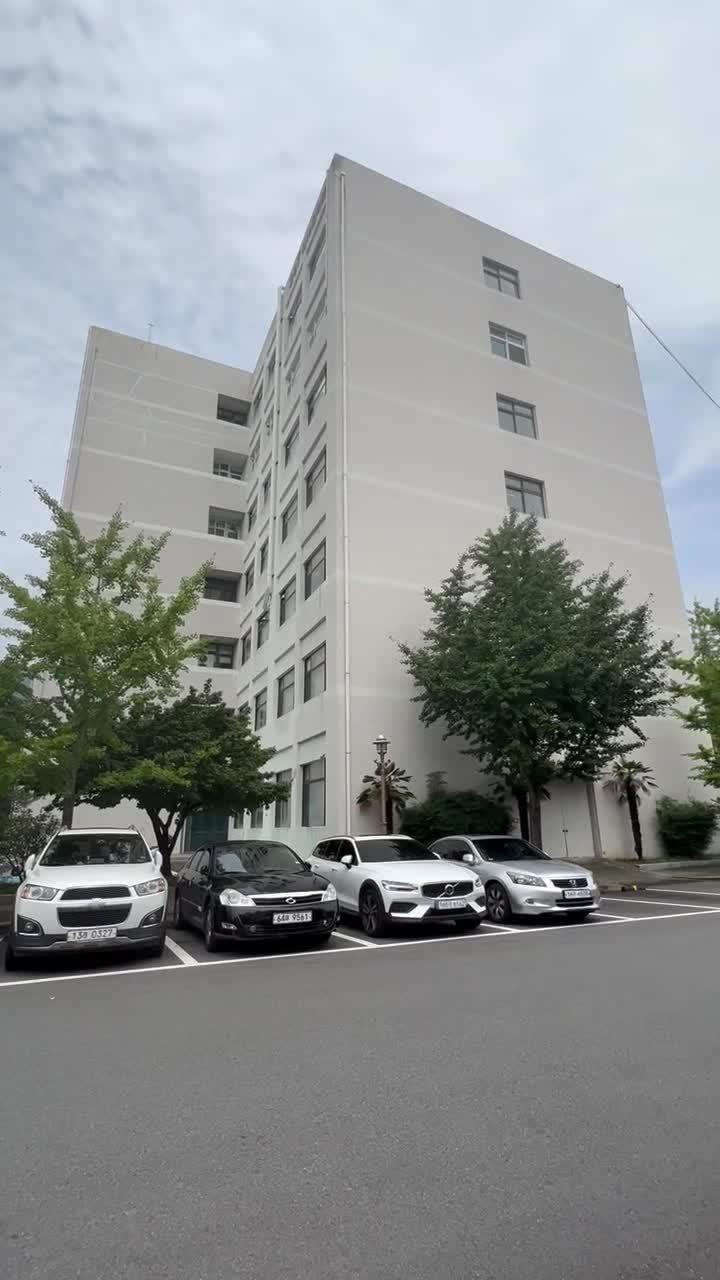building: (52, 168, 650, 534)
